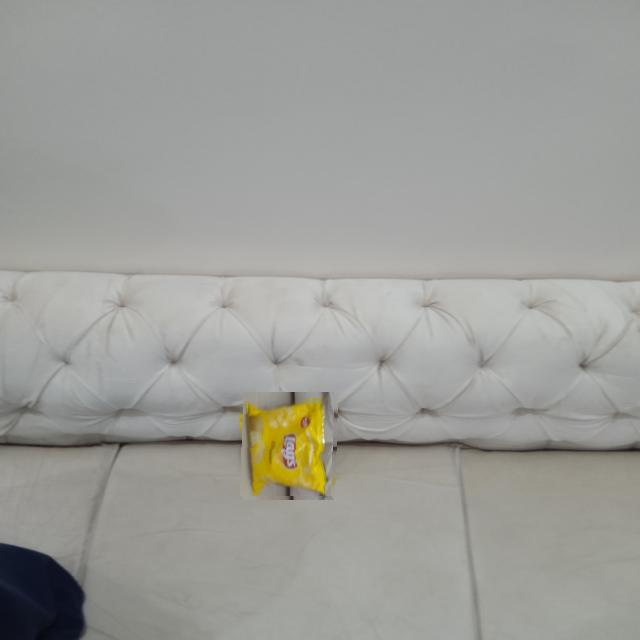Plastic: (238, 396, 338, 496)
